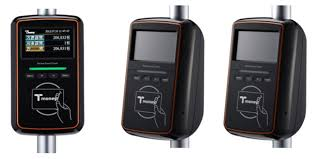terminal: (8, 13, 88, 137)
